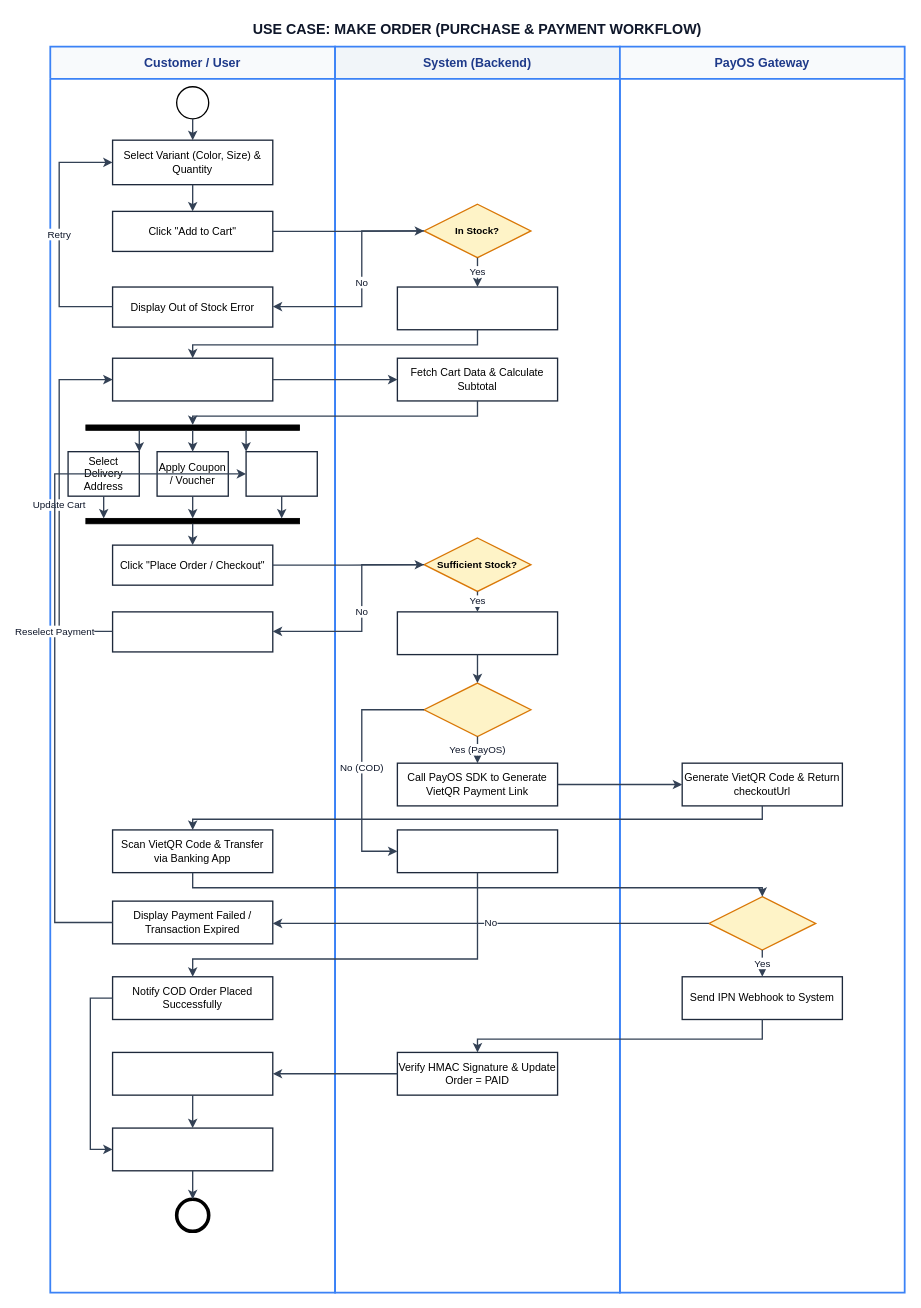
Some shapes in this 921 by 1308 pixel diagram are drawn without their labels. The shapes that lost their labels are listed below. From the top down, each one's centre as x and y in pixels, then its label:
[477,308]: Save to CartItem & Recalculate Cart Total
[192,379]: Show Success Toast & Open Shopping Cart
[281,473]: Select Payment (COD / PayOS)
[192,631]: Display Insufficient Stock Error
[477,633]: Deduct Stock, Create Order (Pending) & Clear Cart
[477,709]: Payment Method is PayOS?
[477,851]: Record COD Order & Send Notification
[762,923]: Payment Successful?
[192,1073]: Display PayOS Payment Success Badge
[192,1149]: View Order Details in "Order History"
